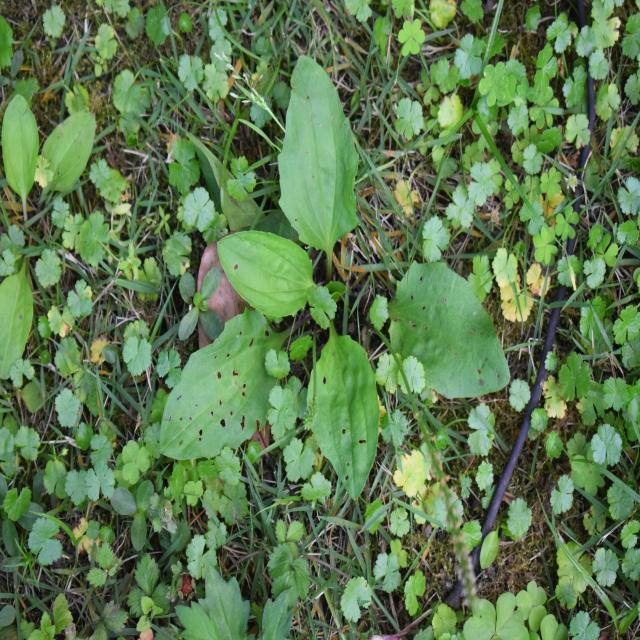plantain: (166, 55, 470, 485)
